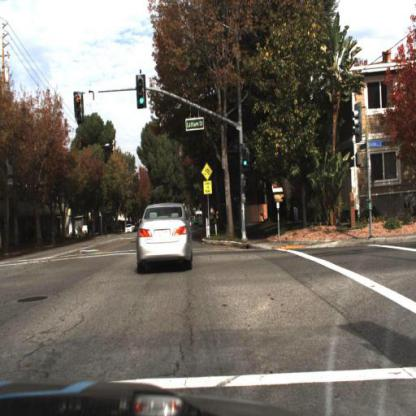car: (135, 203, 199, 274), (124, 220, 136, 238)
trafficLight: (137, 75, 148, 113)
trafficLight-Green: (240, 144, 252, 172)
trafficLight-RedLeft: (75, 94, 86, 127)
